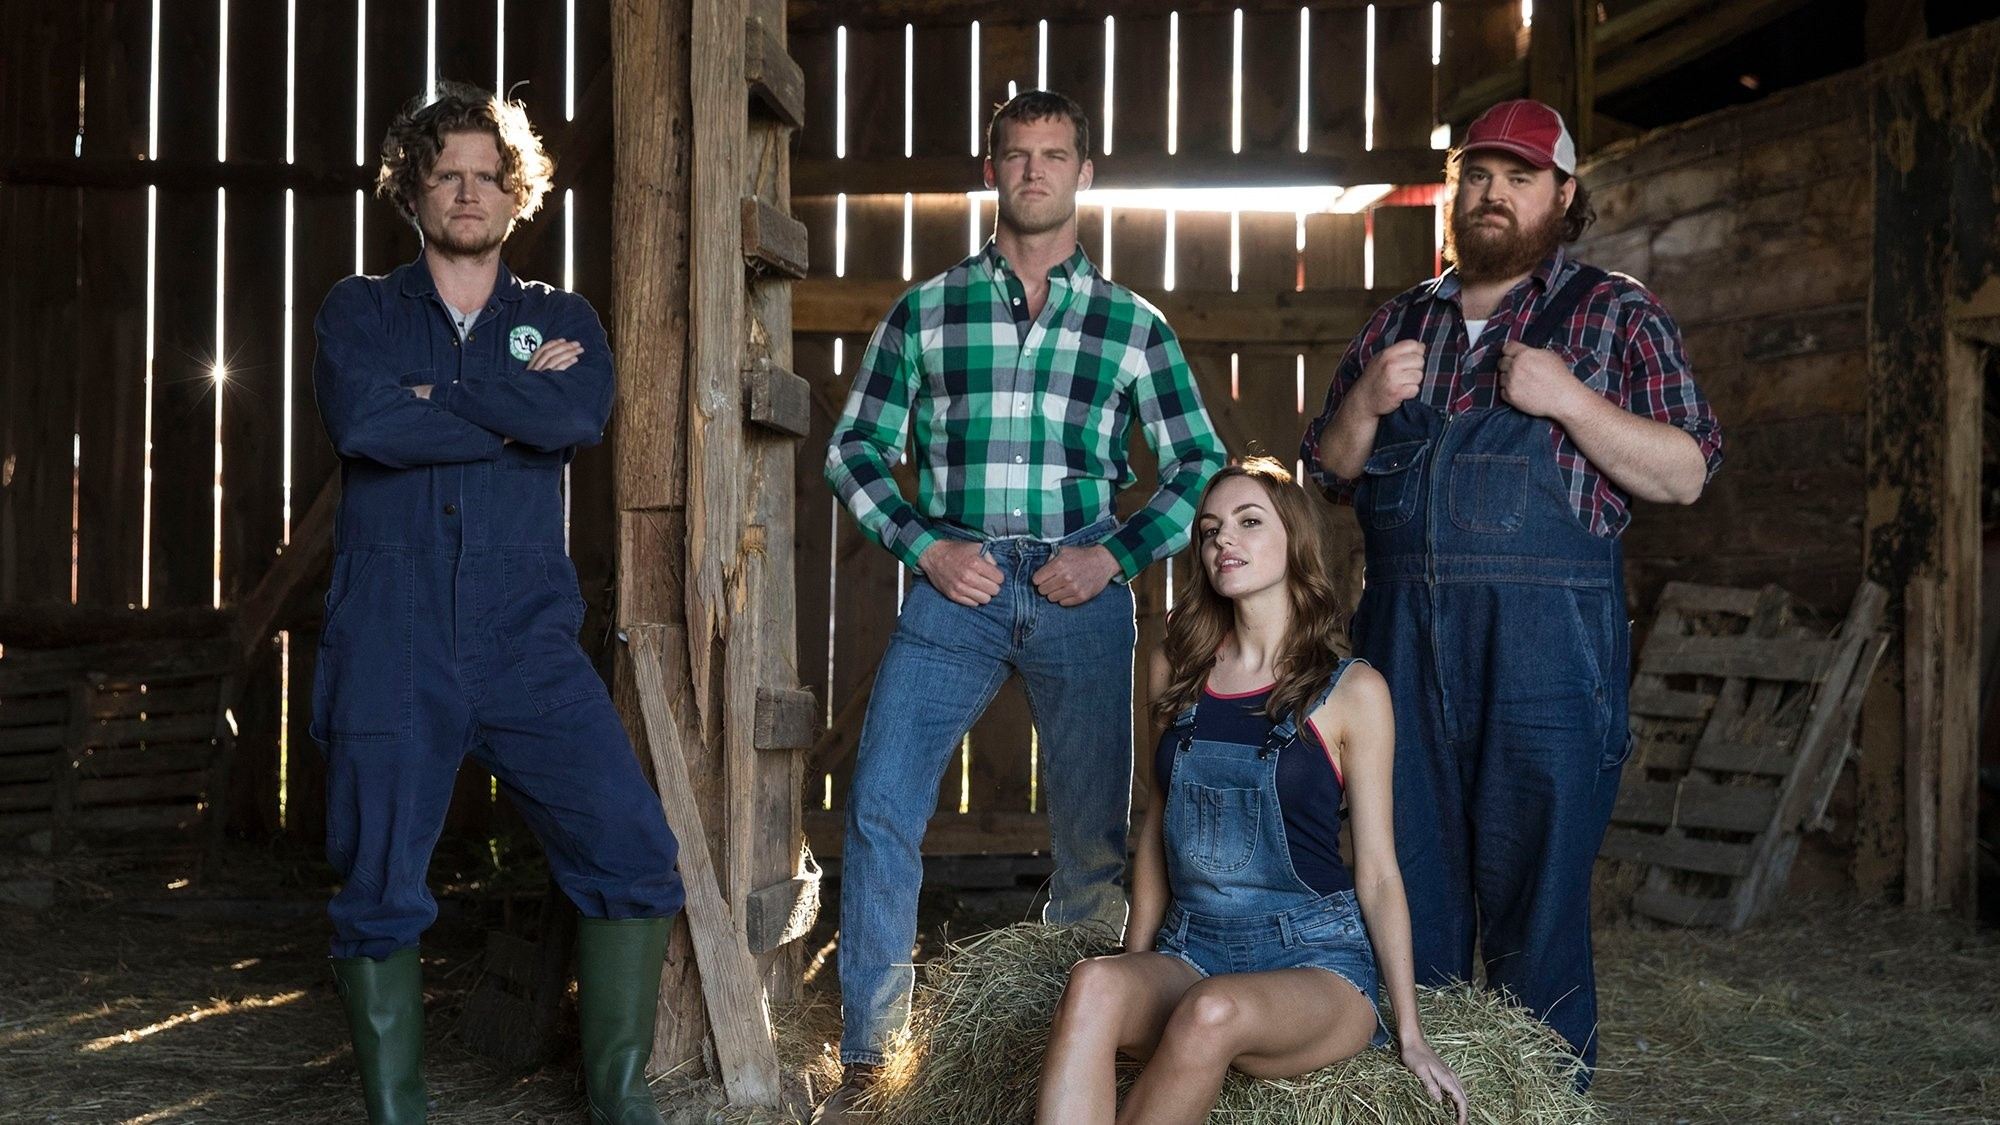face_no_mask: (381, 95, 544, 262), (1192, 467, 1316, 599), (990, 92, 1092, 232)
